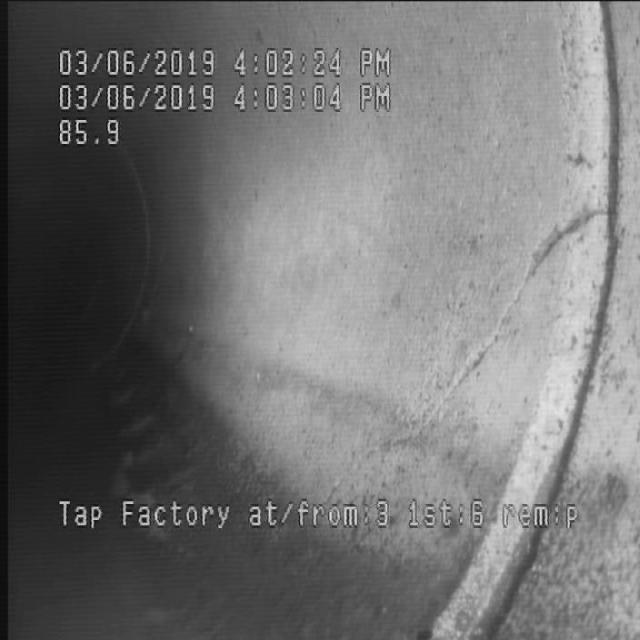Crack: (452, 187, 598, 411)
